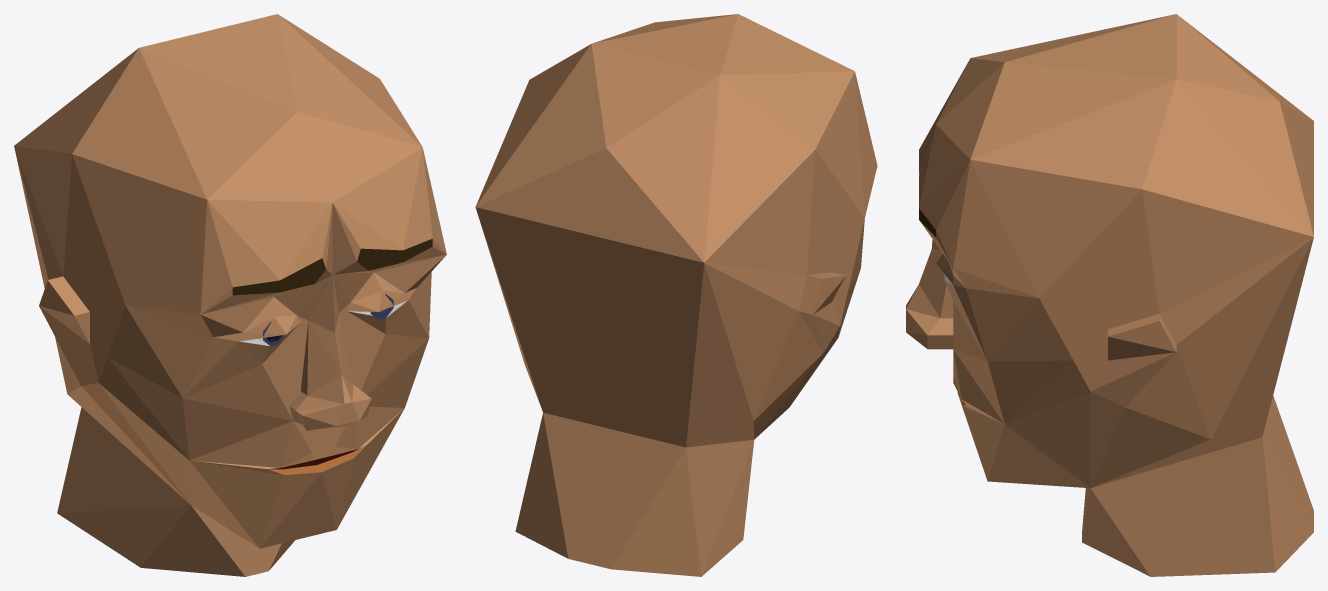
File: model_63_idk_head.obj
3 renders of one model, left to right at view 1: azimuth 30°, elevation 25°; view 2: azimuth 150°, elevation 25°; view 3: azimuth 270°, elevation 25°, orthographic. The views are drawn at different scales.
Visible parts, largest first — view 1: 63; view 2: 63; view 3: 63.
Part boxes in pixels (x1=…): 63: x1=14, y1=14, x2=446, y2=576; 63: x1=475, y1=14, x2=877, y2=576; 63: x1=906, y1=14, x2=1313, y2=576.
Size of the model in its own units: 88 by 126 by 95.
